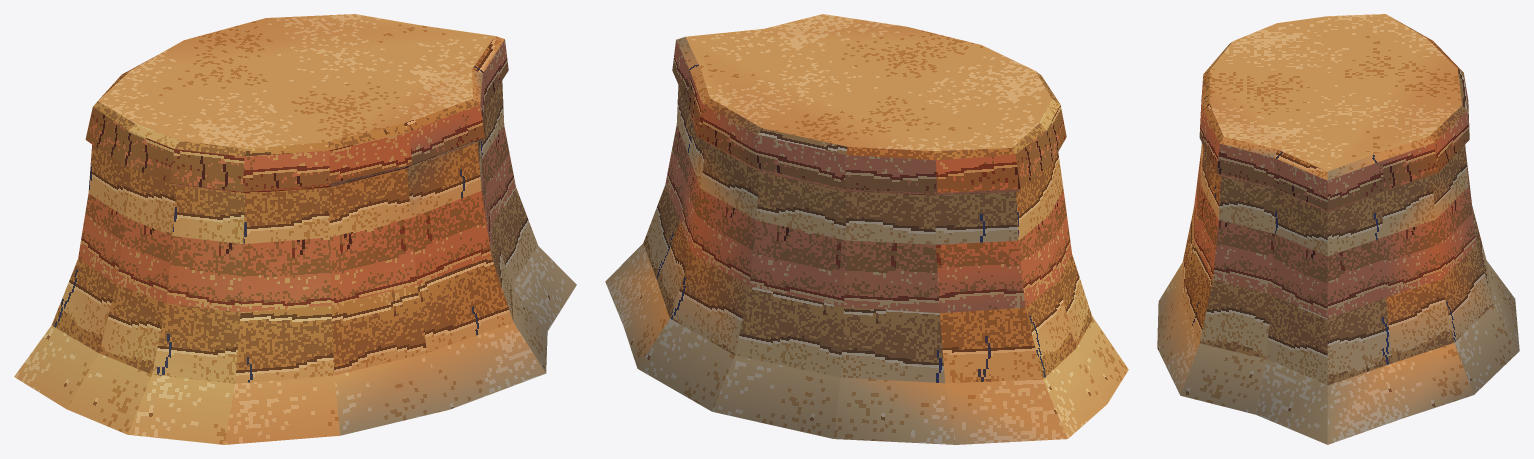
Rendered from wland.mesa__small.glb.
3 views of the same model, side by side, from view 1: azimuth 30°, elevation 25°; view 2: azimuth 150°, elevation 25°; view 3: azimuth 270°, elevation 25° (orthographic). The views are drawn at different scales.
Visible parts, largest first — view 1: kit_mesa; view 2: kit_mesa; view 3: kit_mesa.
Boxes of the visible parts, box(x1,y1,x2,y2) form: kit_mesa: box(14, 14, 576, 444); kit_mesa: box(605, 14, 1128, 444); kit_mesa: box(1157, 14, 1519, 444).
Bounding box in the file's own units: 14.08 × 7 × 9.66.
4 materials, 4 textured.
